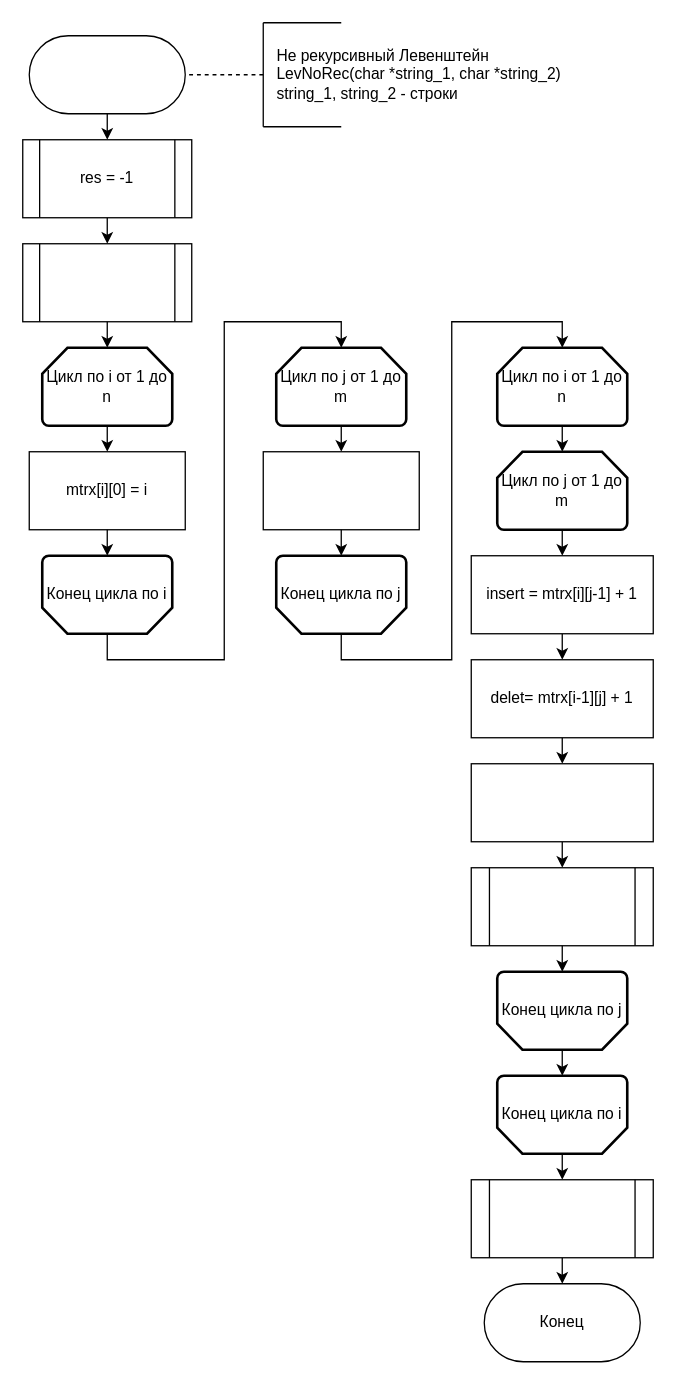
Image size: 676x1385. Some labels were removed from this diagram. Here are the shapes that lost their labels. From the top down, the box of each, then its label:
(28, 34, 185, 114): Начало
(21, 242, 192, 322): Создание матрицы mtrx
(262, 450, 419, 530): mtrx[0][j] = j
(470, 762, 653, 842): replace = mtrx[i-1][j-1] + (int) (string_1[i-1] != string_2[j-1])
(470, 866, 653, 946): mtrx[i][j] = get_min(insert, delet, replace)
(470, 1178, 653, 1258): res = mtrx[n-1][m-1]
